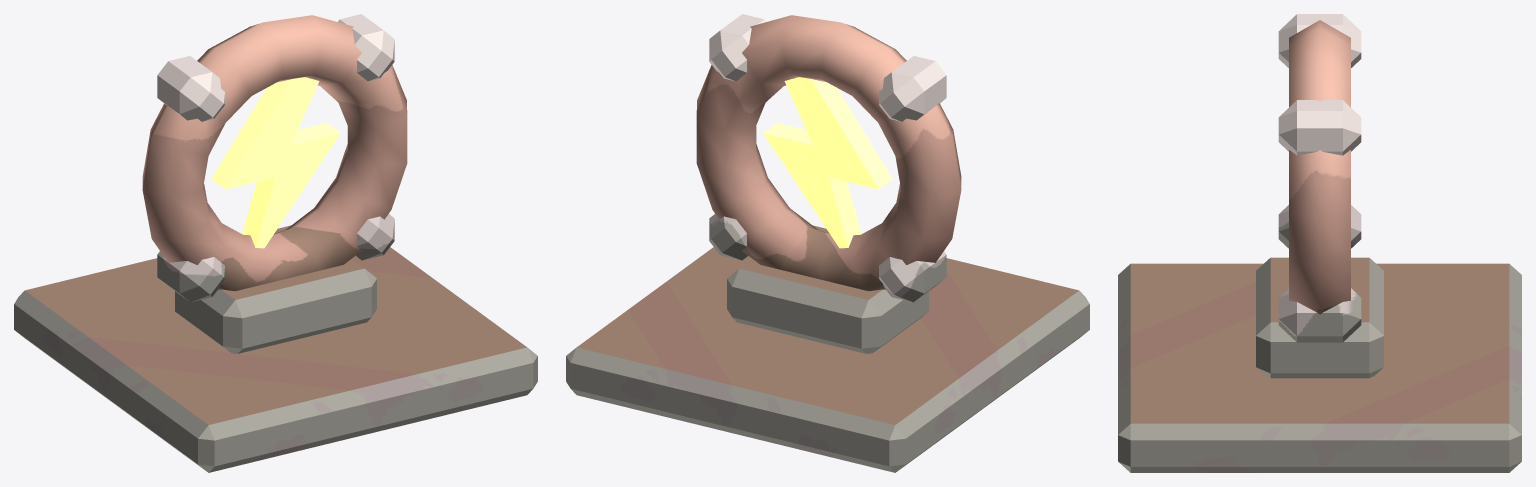
Rendered from R4X_RechargePulse_LOD1.glb.
3 renders of one model, left to right at view 1: azimuth 30°, elevation 25°; view 2: azimuth 150°, elevation 25°; view 3: azimuth 270°, elevation 25°, orthographic. The views are drawn at different scales.
Visible parts, largest first — view 1: R4X_RechargePulse_LOD1; view 2: R4X_RechargePulse_LOD1; view 3: R4X_RechargePulse_LOD1.
Boxes of the visible parts, box(x1,y1,x2,y2) form: R4X_RechargePulse_LOD1: box(14, 14, 537, 472); R4X_RechargePulse_LOD1: box(566, 14, 1089, 472); R4X_RechargePulse_LOD1: box(1118, 14, 1521, 472).
Size of the model in its own units: 0.52 by 0.5081 by 0.52.
Materials: 3 (2 with a texture image).
